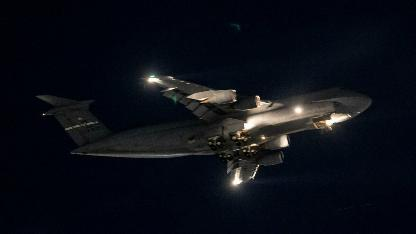C17: (35, 75, 373, 187)
